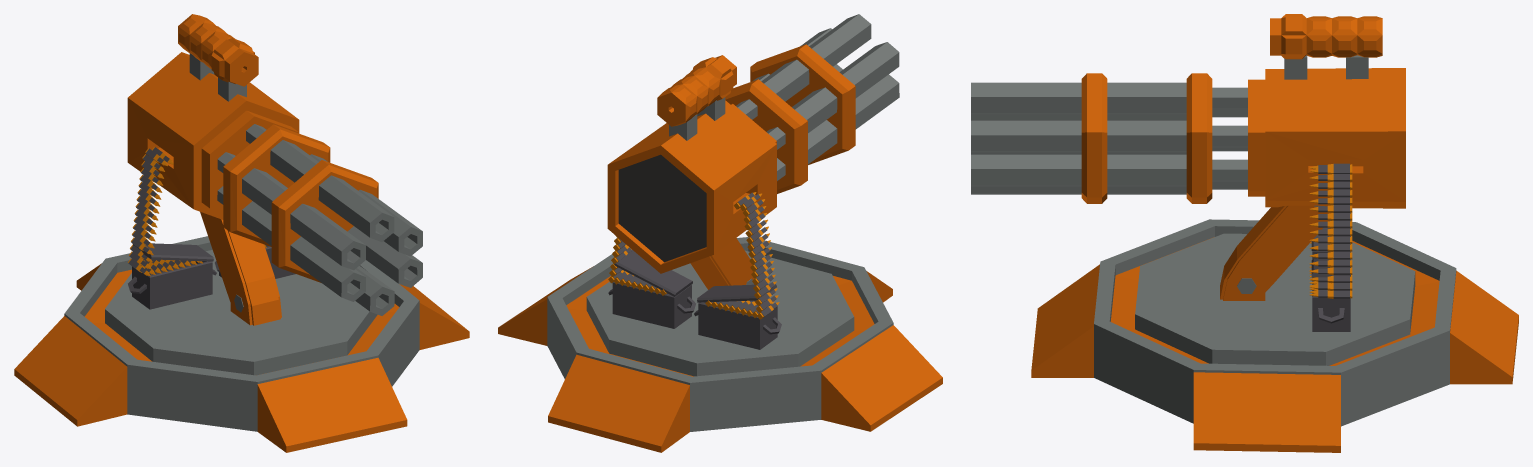
Rendered from T8ofhRSenf.glb.
3 views of the same model, side by side, from view 1: azimuth 30°, elevation 25°; view 2: azimuth 150°, elevation 25°; view 3: azimuth 270°, elevation 25° (orthographic). The views are drawn at different scales.
Parts seen in each view (by area): view 1: LaserSightGatelingGunTurret; view 2: LaserSightGatelingGunTurret; view 3: LaserSightGatelingGunTurret.
Boxes of the visible parts, x1,y1,x2,y2 form: LaserSightGatelingGunTurret: (14,14,469,452); LaserSightGatelingGunTurret: (498,14,942,452); LaserSightGatelingGunTurret: (971,14,1518,452).
Bounding box in the file's own units: 3.25 × 2.46 × 3.66.
Materials: 1 (1 with a texture image).
